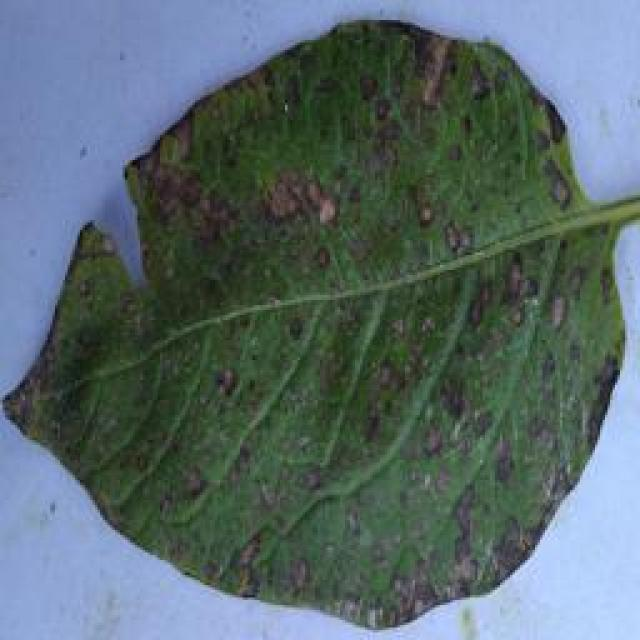Potato_Early_Blight: (5, 23, 640, 632)
